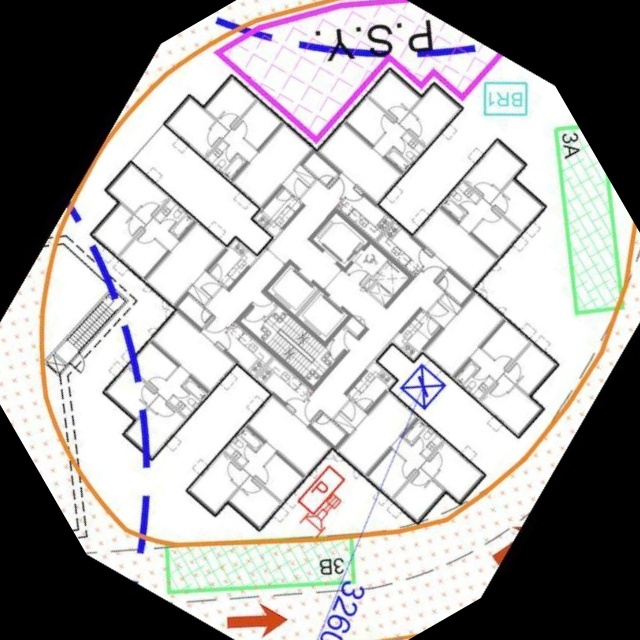tower_crane: (399, 363, 448, 414)
